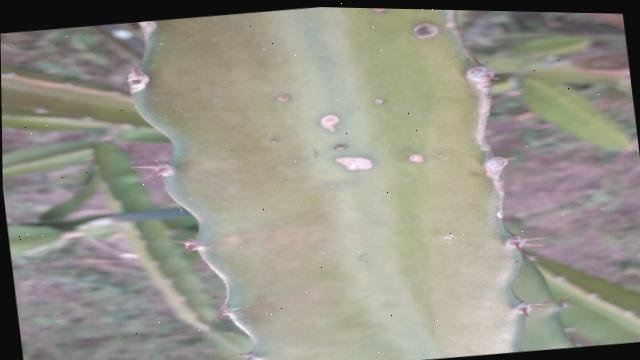stemcanker: (330, 154, 380, 174), (309, 112, 348, 134), (409, 18, 443, 43), (403, 152, 429, 167), (272, 92, 295, 107), (368, 95, 390, 108)
